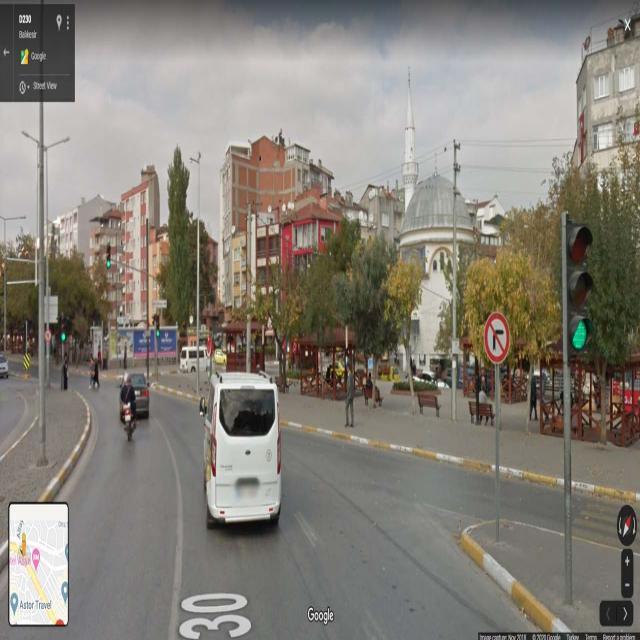sagadonulmez: (485, 311, 509, 362)
yesil: (566, 221, 590, 356)
